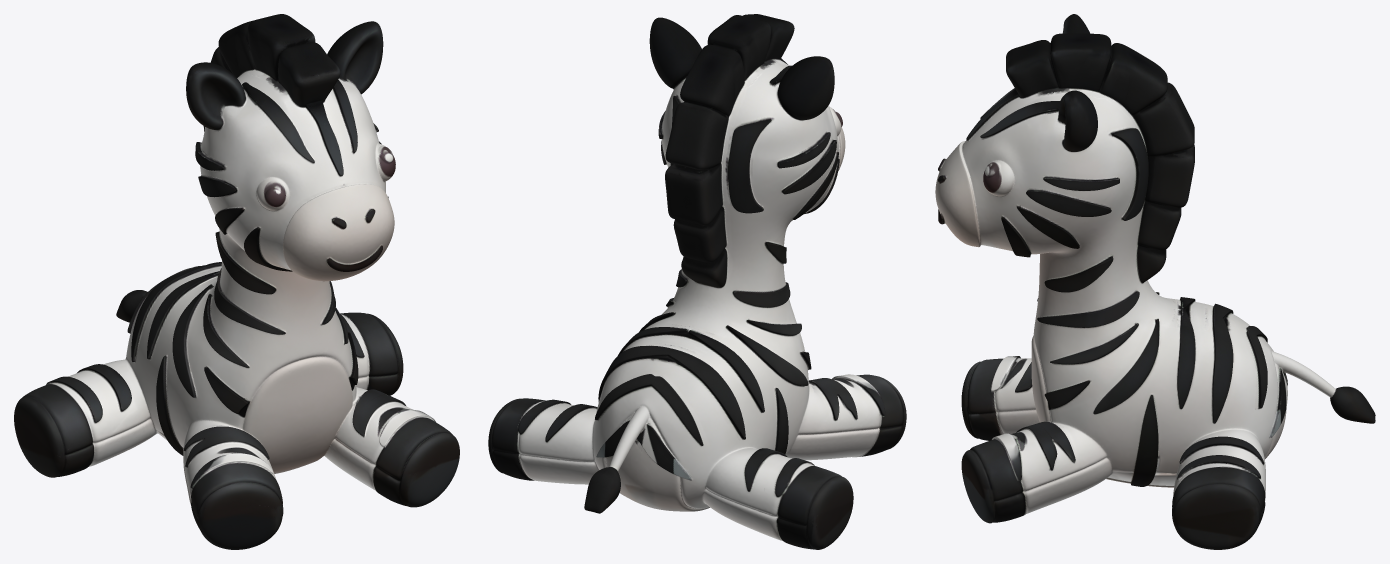
File: Zebra.glb
3 renders of one model, left to right at view 1: azimuth 30°, elevation 25°; view 2: azimuth 150°, elevation 25°; view 3: azimuth 270°, elevation 25°, orthographic. The views are drawn at different scales.
Bounding box in the file's own units: 1.52 × 1.9 × 1.73.
1 material, 1 textured.
